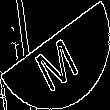M_NW: (28, 21, 82, 89)
